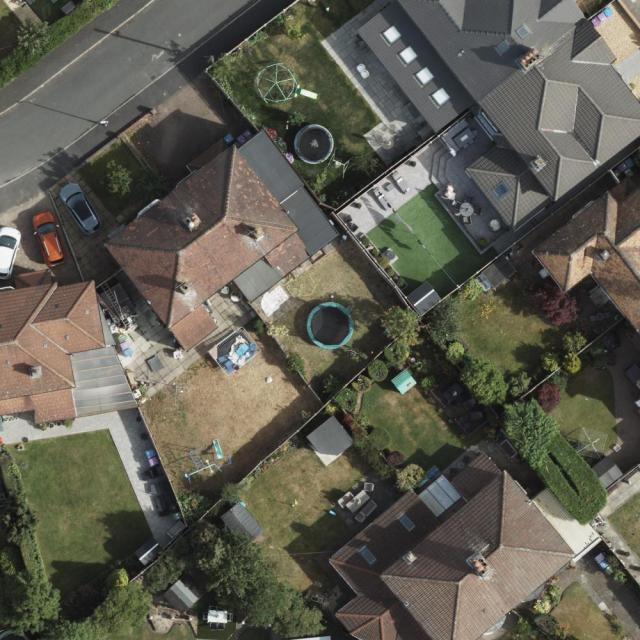roof: (357, 0, 640, 231), (102, 131, 340, 352), (330, 452, 602, 640), (0, 269, 142, 428), (533, 177, 640, 332)
skylight: (397, 42, 420, 67), (428, 86, 452, 109), (357, 545, 381, 566), (414, 67, 437, 88), (381, 26, 402, 46), (489, 182, 512, 200), (396, 512, 417, 531), (515, 23, 533, 40), (495, 37, 512, 54)
